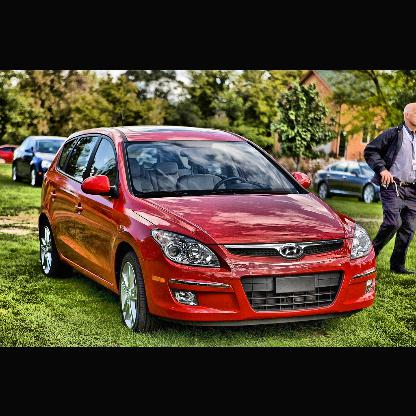Hyundai Elantra Touring Hatchback 2012: (38, 123, 378, 335)
